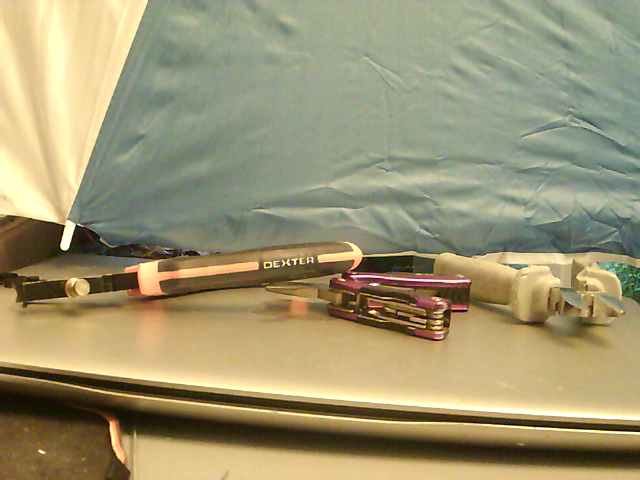pliers: (268, 272, 474, 347), (435, 254, 627, 333)
